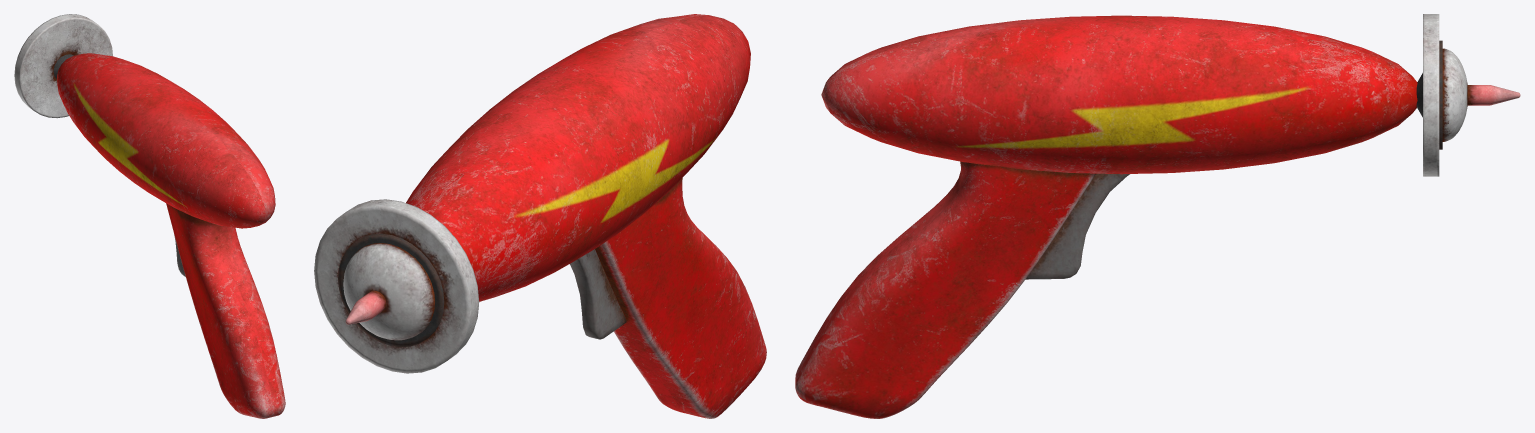
Rendered from raygun.glb.
3 views of the same model, side by side, from view 1: azimuth 30°, elevation 25°; view 2: azimuth 150°, elevation 25°; view 3: azimuth 270°, elevation 25° (orthographic). The views are drawn at different scales.
Parts seen in each view (by area): view 1: CommandKeenGun; view 2: CommandKeenGun; view 3: CommandKeenGun.
Part boxes in pixels (left/top/right/bottom): CommandKeenGun: left=14, top=14, right=285, bottom=418; CommandKeenGun: left=314, top=14, right=766, bottom=418; CommandKeenGun: left=795, top=14, right=1520, bottom=418.
Bounding box in the file's own units: 0.1192 × 0.3168 × 0.5313.
1 material, 1 textured.
